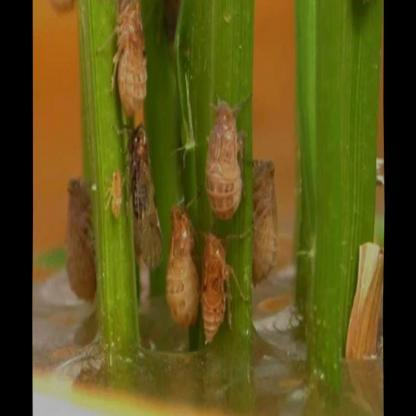brown-planthopper: (128, 123, 162, 271), (204, 96, 244, 219), (64, 172, 98, 308), (112, 0, 150, 116), (250, 154, 279, 284), (168, 205, 198, 327), (202, 230, 231, 348), (108, 170, 124, 222)
